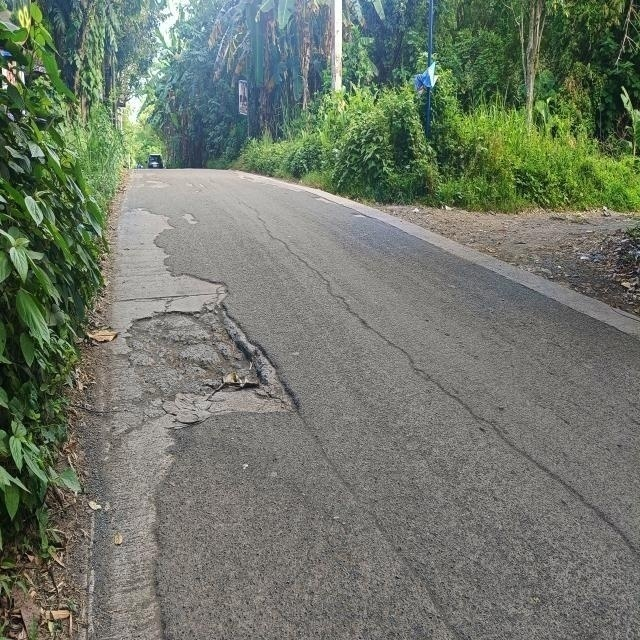pothole: (129, 310, 262, 407)
